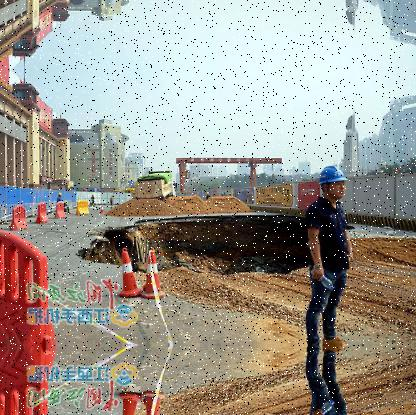helmet: (316, 159, 350, 203)
